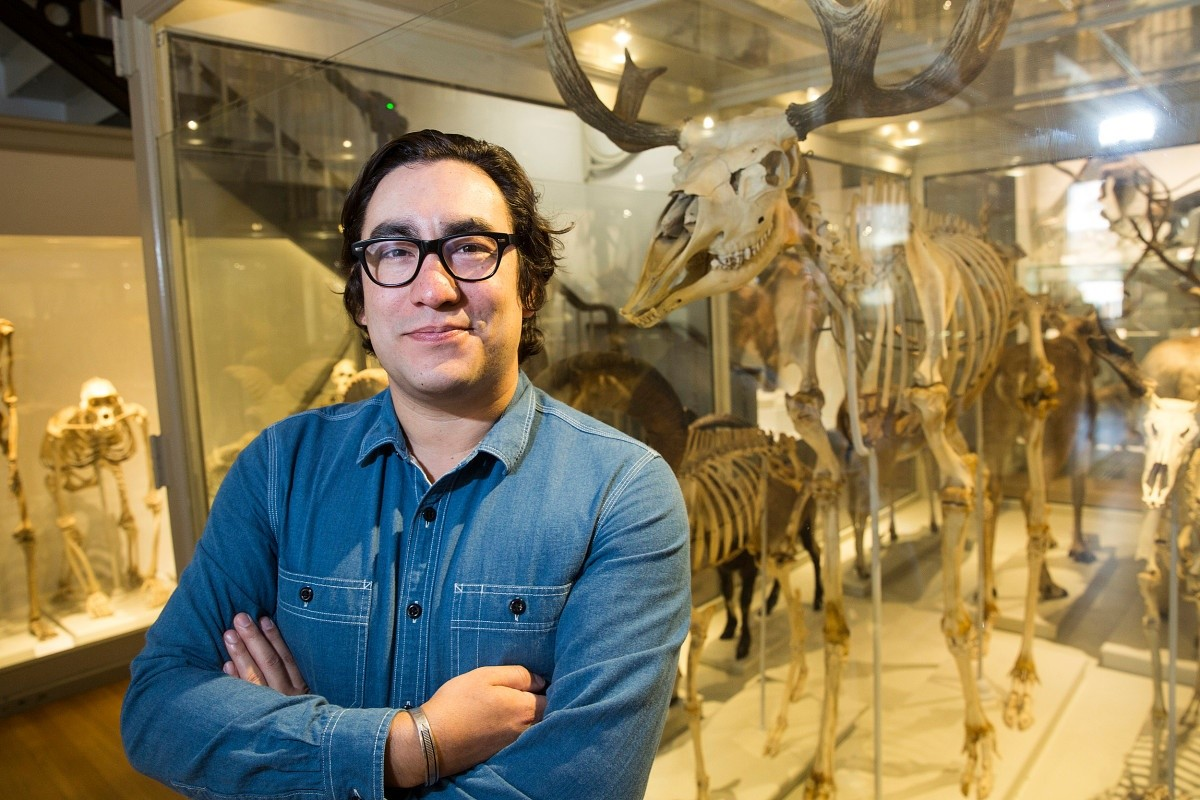face_no_mask: (347, 140, 525, 395)
